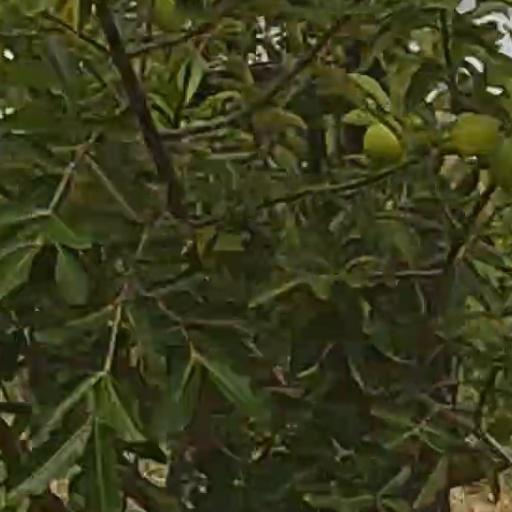acerola_verde: (452, 115, 498, 155), (364, 124, 397, 159), (495, 140, 512, 180)
